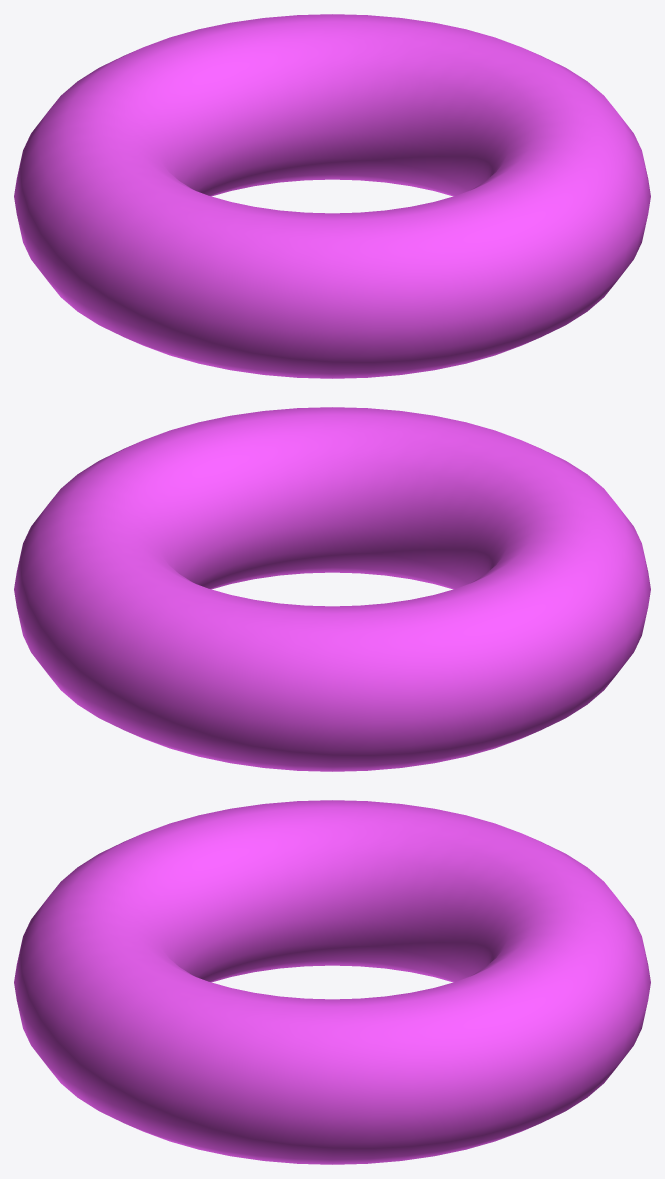
The picture shows the model from 3 angles, top to bottom: view 1: azimuth 30°, elevation 25°; view 2: azimuth 150°, elevation 25°; view 3: azimuth 270°, elevation 25°; orthographic projection.
Parts seen in each view (by area): view 1: Torus; view 2: Torus; view 3: Torus.
Boxes of the visible parts, x1,y1,x2,y2 form: Torus: (14,14,650,378); Torus: (14,407,650,771); Torus: (14,800,650,1164).
Bounding box in the file's own units: 2 × 0.52 × 2.
